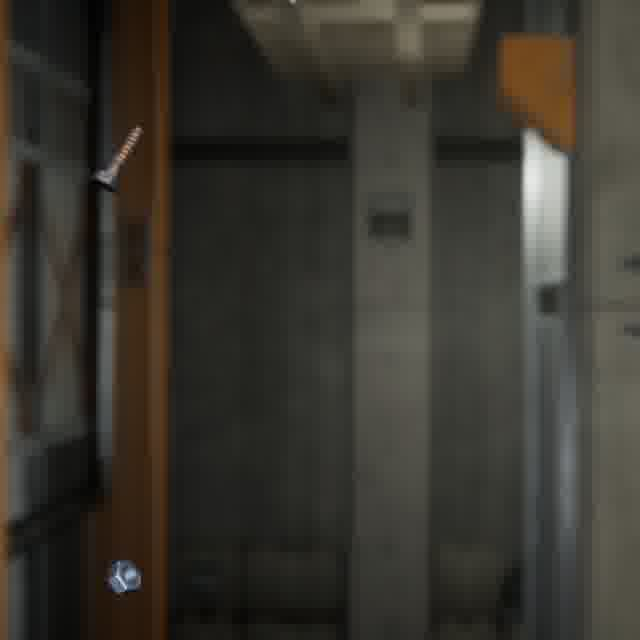bolt: (87, 122, 148, 196)
nut: (103, 556, 144, 598)
